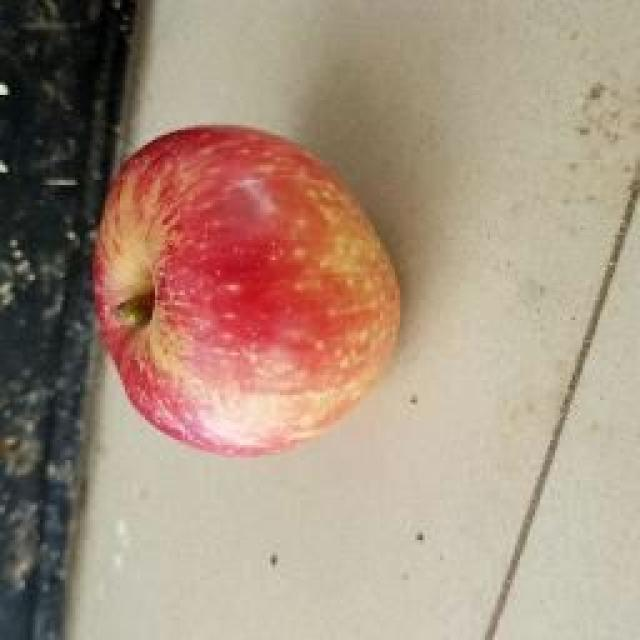Good_Apple: (92, 125, 402, 462)
